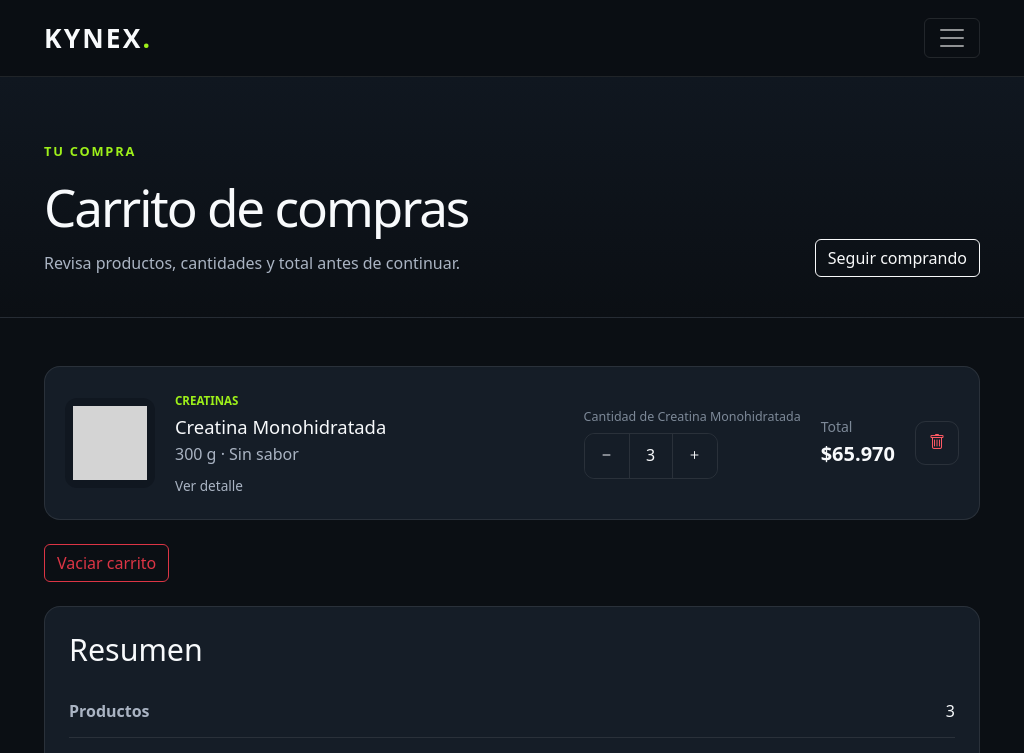
Rutas públicas con PublicLayout › recupera el carrito al recargar y actualiza el contador al vaciarlo
Click the button "Vaciar carrito": (107, 563) [44,544,169,582]
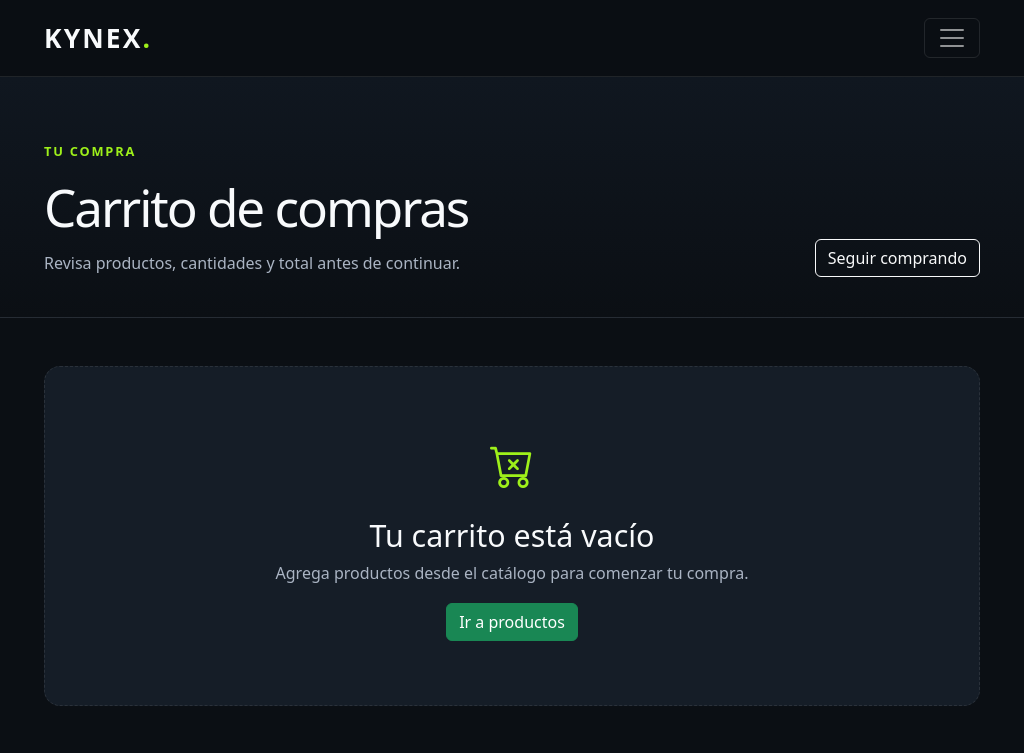
Expected: the heading "Tu carrito está vacío" is shown, [370,517,654,553]
